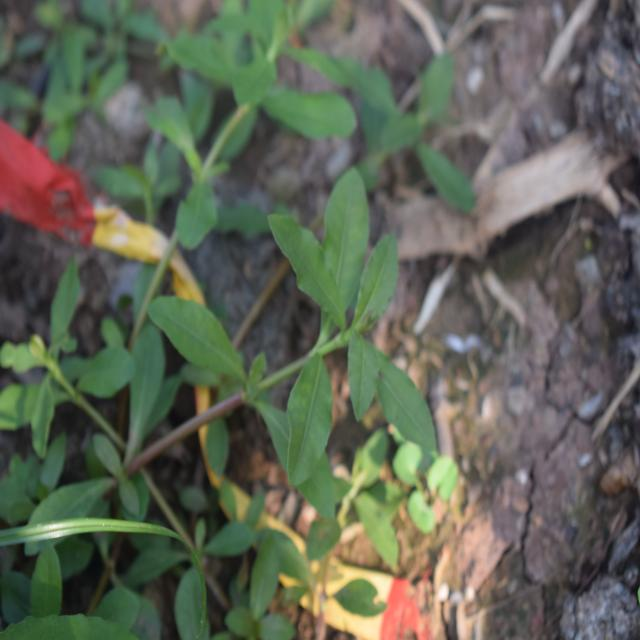Alligatorweed: (122, 185, 432, 502)
